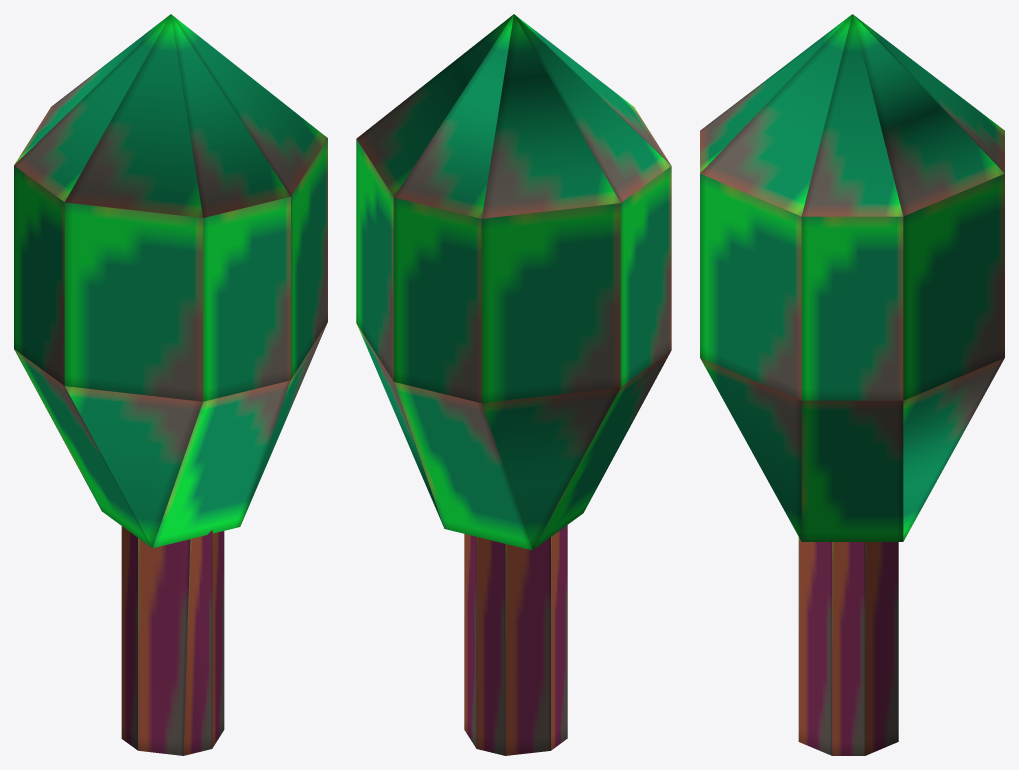
The model's file is treetest.obj.
3 views of the same model, side by side, from view 1: azimuth 30°, elevation 25°; view 2: azimuth 150°, elevation 25°; view 3: azimuth 270°, elevation 25° (orthographic).
Visible parts, largest first — view 1: treetest.001; view 2: treetest.001; view 3: treetest.001.
Part boxes in pixels (x1,y1,x2,y2): treetest.001: (14,14,327,755); treetest.001: (356,14,671,755); treetest.001: (700,14,1004,755).
Size of the model in its own units: 1.5 by 3.91 by 1.5.
